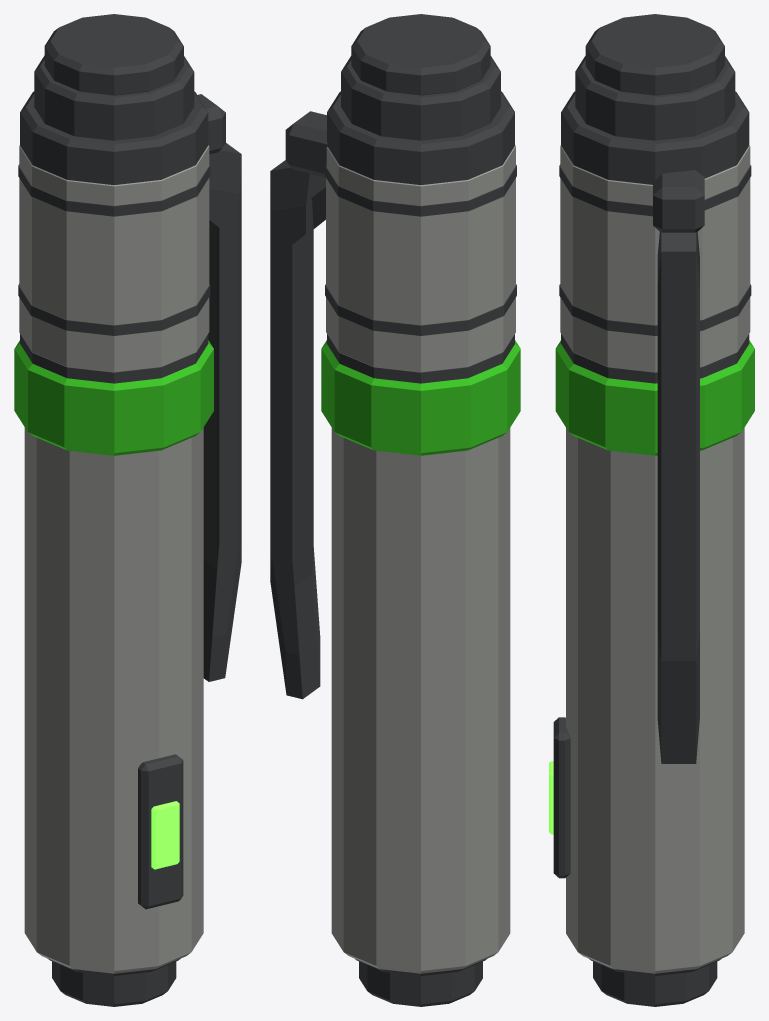
Rendered from 03_stim_injector.fbx.
3 renders of one model, left to right at view 1: azimuth 30°, elevation 25°; view 2: azimuth 150°, elevation 25°; view 3: azimuth 270°, elevation 25°, orthographic.
Visible parts, largest first — view 1: 03_stim_injector; view 2: 03_stim_injector; view 3: 03_stim_injector.
Part boxes in pixels (bbox=[...]): 03_stim_injector: bbox=[14, 14, 241, 1006]; 03_stim_injector: bbox=[270, 14, 520, 1006]; 03_stim_injector: bbox=[549, 14, 754, 1006].
Size of the model in its own units: 3.32 by 13.8 by 2.73.
